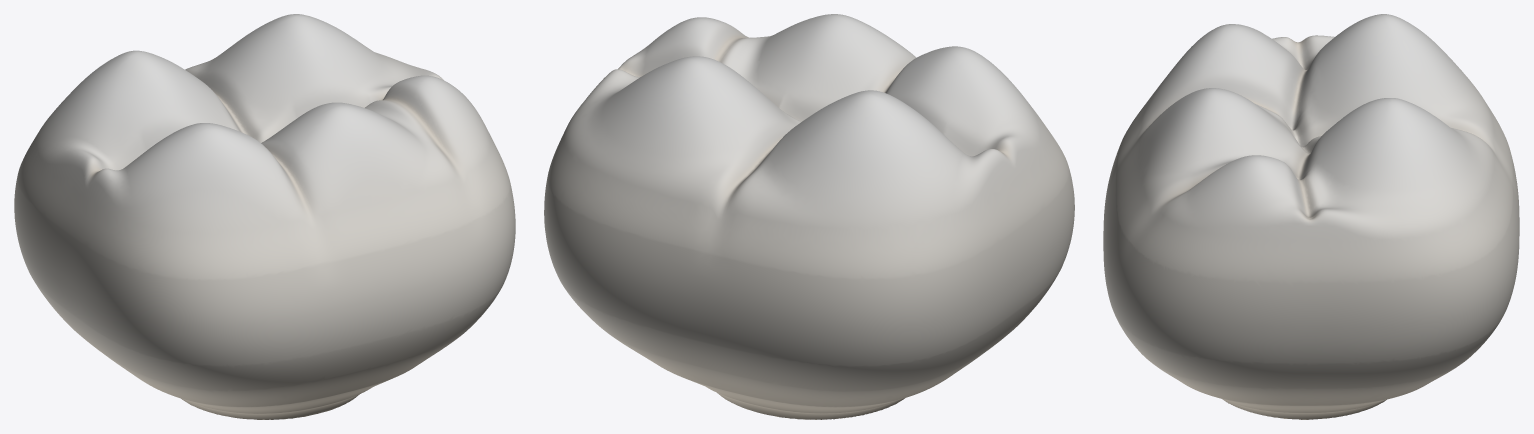
Rendered from coroa.glb.
3 renders of one model, left to right at view 1: azimuth 30°, elevation 25°; view 2: azimuth 150°, elevation 25°; view 3: azimuth 270°, elevation 25°, orthographic. The views are drawn at different scales.
Bounding box in the file's own units: 1.74 × 1.31 × 1.56.
